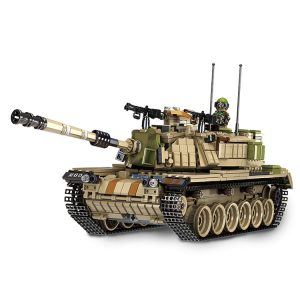Battle Tank: (45, 109, 293, 245)
